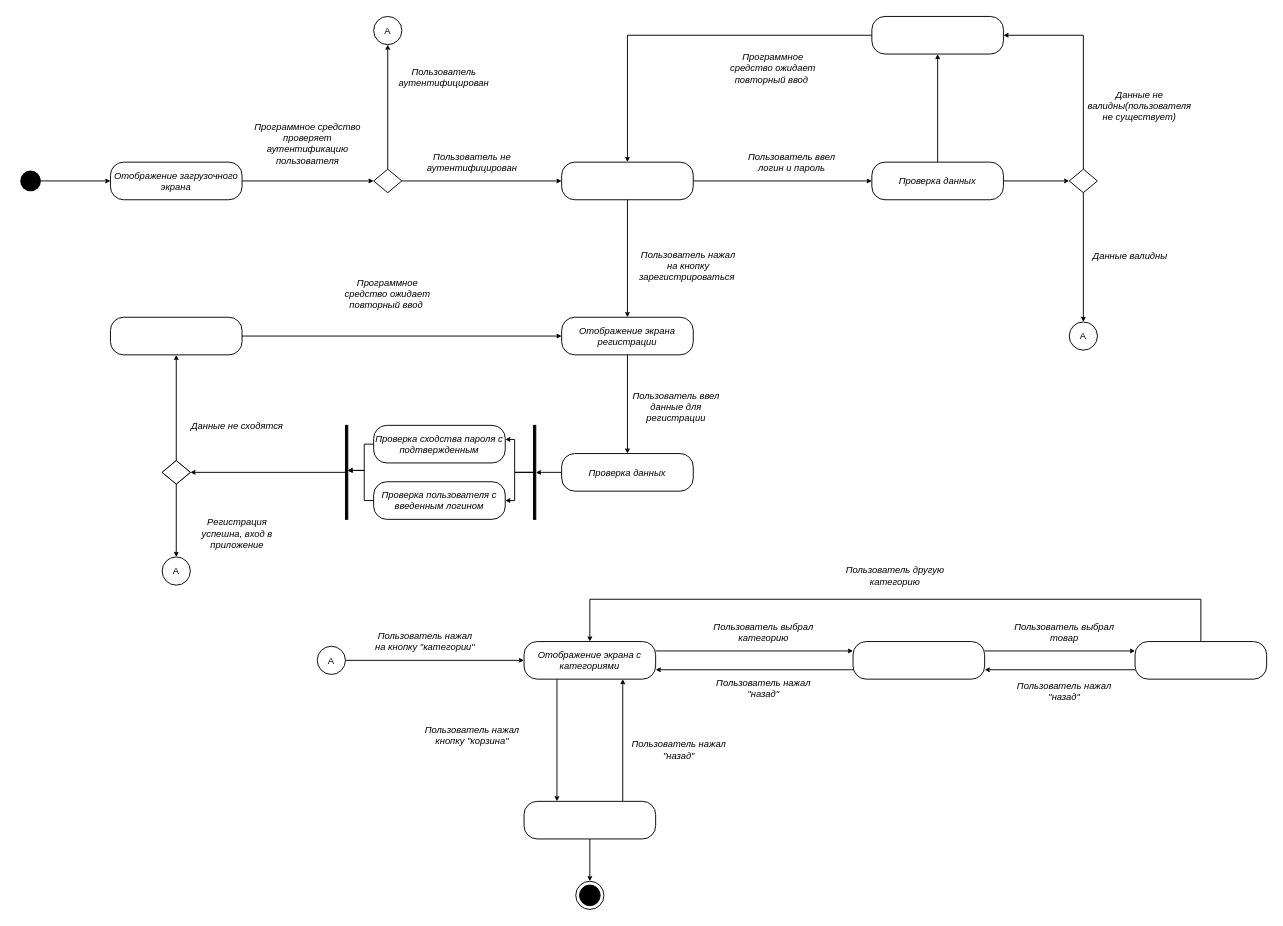
The diagram is 1283 pixels wide and 926 high, and some of its shapes have lost their labels. The shapes that lost their labels are listed below. From the top down, each one's centre as x and y in pixels, then its label:
At pixel 937 35: "Ошибка входа".
At pixel 627 180: "Отображение экрана логина".
At pixel 176 335: "Ошибка регистрации".
At pixel 918 660: "Отображение экрана товаров".
At pixel 1200 660: "Отображение товара".
At pixel 589 819: "Конец покупки".
